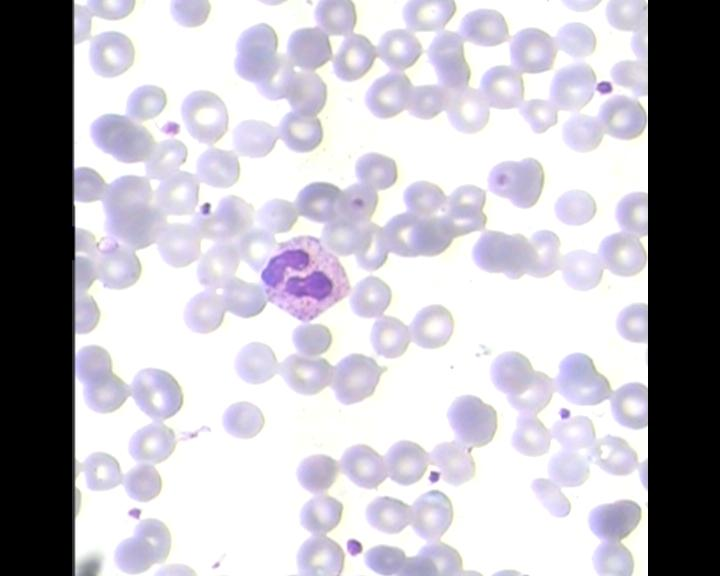neut: (255, 232, 348, 322)
